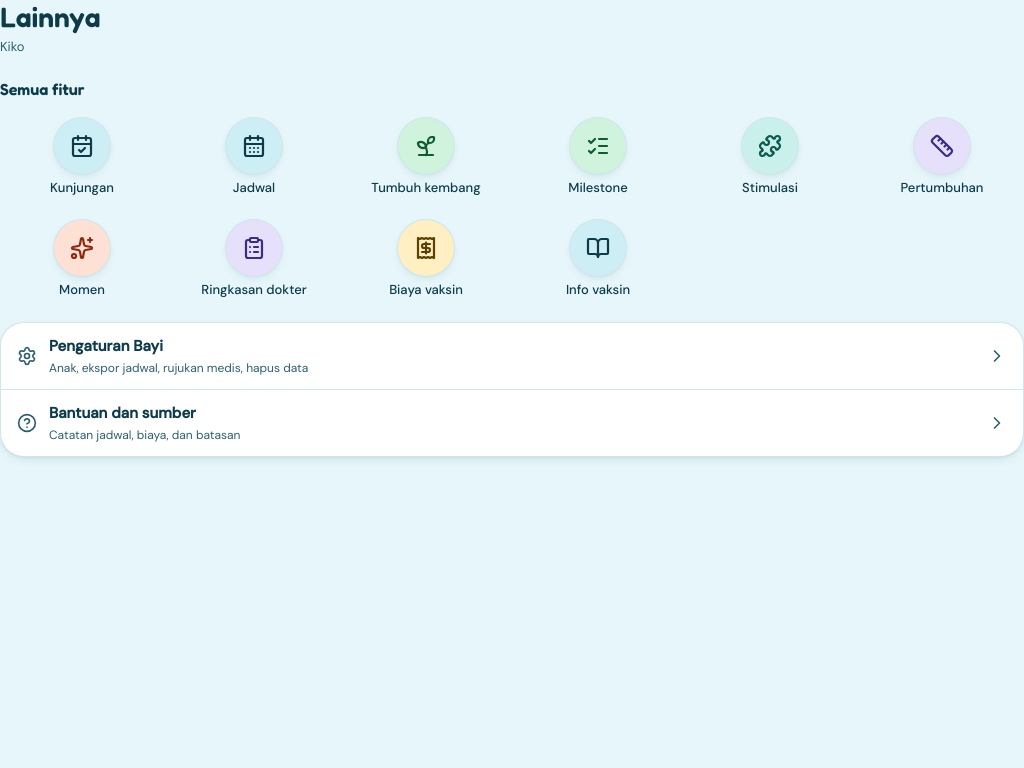
it: Lainnya › grid semua fitur, Pengaturan Bayi, dan Bantuan dan sumber
Click the button "Bantuan dan sumber Catatan jadwal, biaya, dan batasan": (122, 413) [1, 390, 1023, 456]
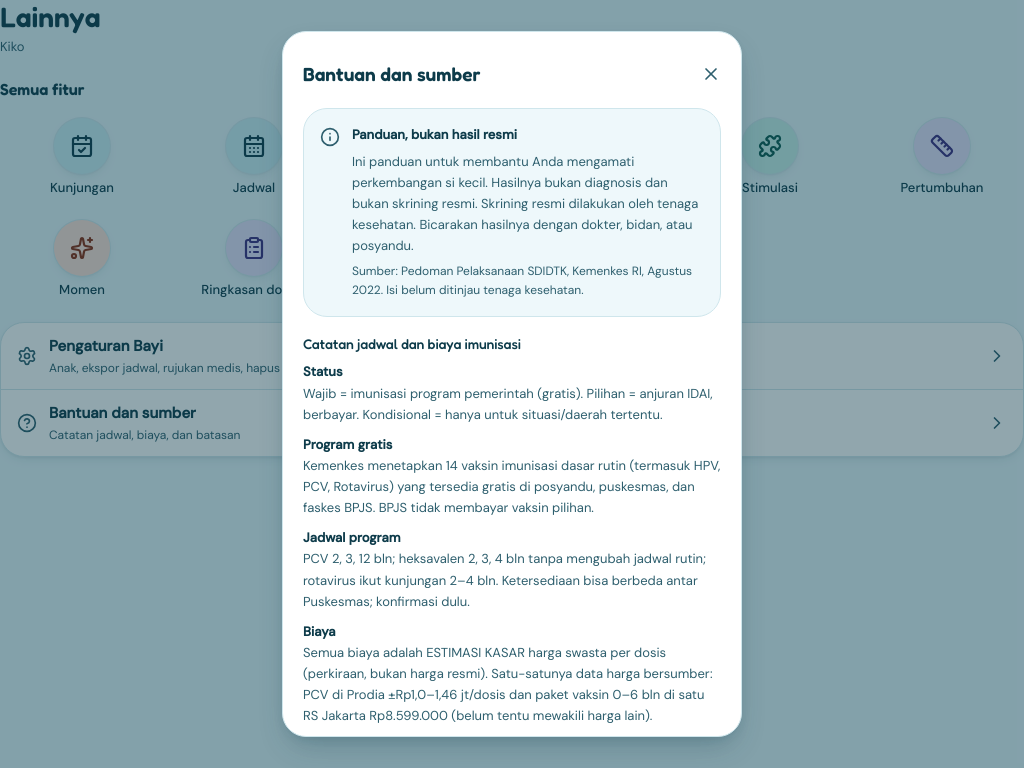
Result: the dialog "Bantuan dan sumber" is shown at [282, 31, 742, 737]
Result: the heading "Catatan jadwal dan biaya imunisasi" is shown at [303, 335, 521, 352]
